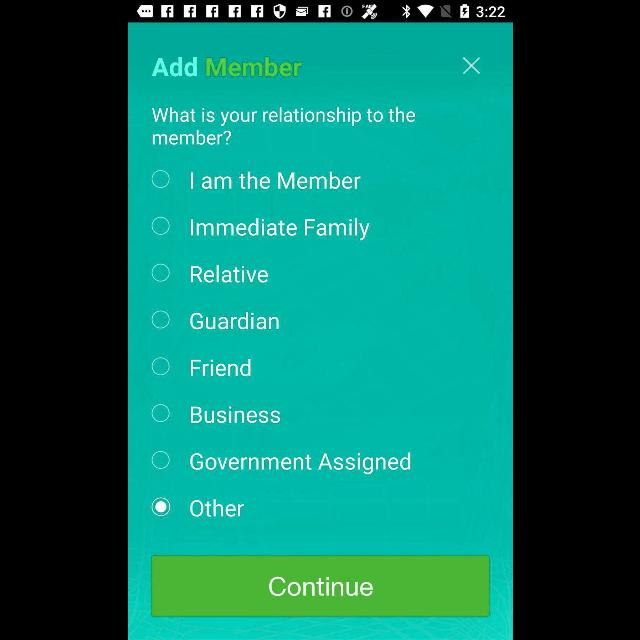checkbox: (150, 497, 170, 517), (151, 263, 169, 281), (150, 217, 168, 235), (151, 170, 169, 188), (151, 310, 169, 328), (151, 357, 169, 375), (151, 404, 169, 422), (151, 451, 169, 469)
icon: (462, 57, 481, 75)
text: (149, 106, 415, 148), (190, 452, 410, 476), (190, 218, 370, 242), (150, 56, 302, 78), (190, 172, 360, 190), (190, 406, 280, 424), (190, 312, 278, 330), (190, 265, 268, 283), (190, 359, 250, 377), (190, 499, 244, 517)
textbutton: (151, 556, 489, 616)
uppertaskbar: (128, 1, 512, 23)
